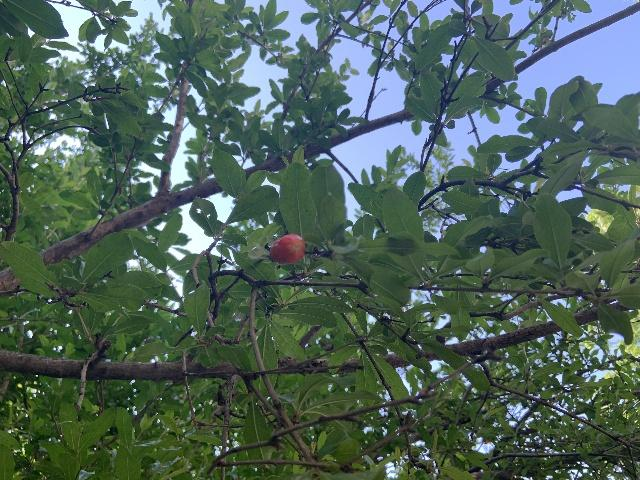bud: (270, 233, 304, 264)
